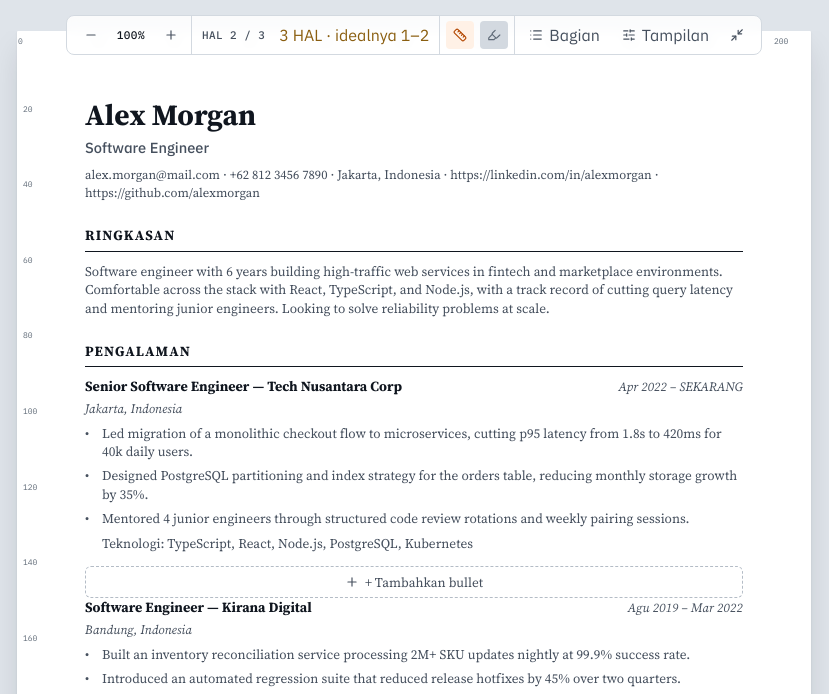
kepala entri editable di kertas (C4.1) › field wajib entri dikosongkan: nilai kosong ditulis, guide tampil lagi
The width and height of the screenshot is (829, 694).
Click the button "Senior Software Engineer". click: x=167, y=387
box: [85, 377, 249, 397]
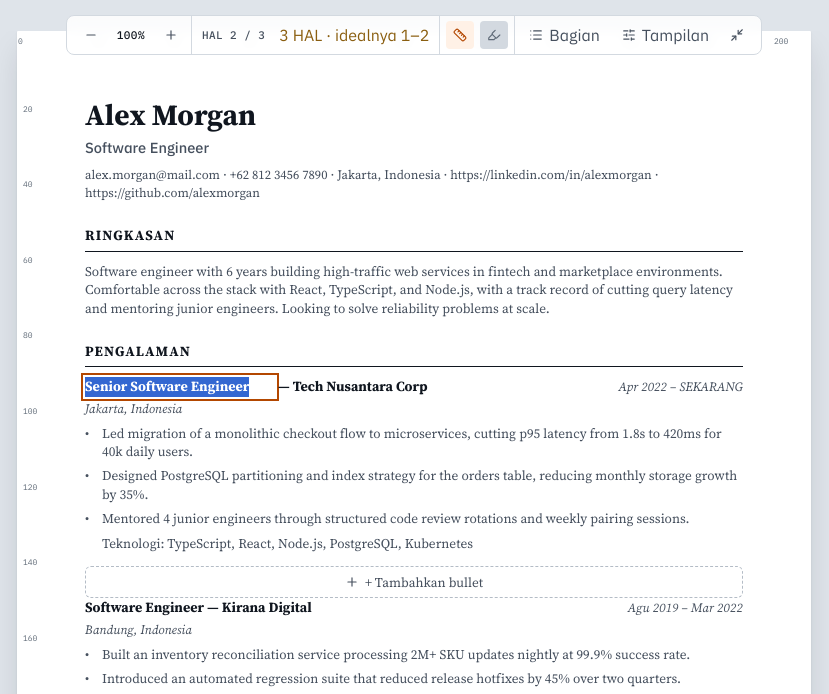
Clear the field with class "canvas-editor". click: x=180, y=387
box: [85, 377, 275, 397]
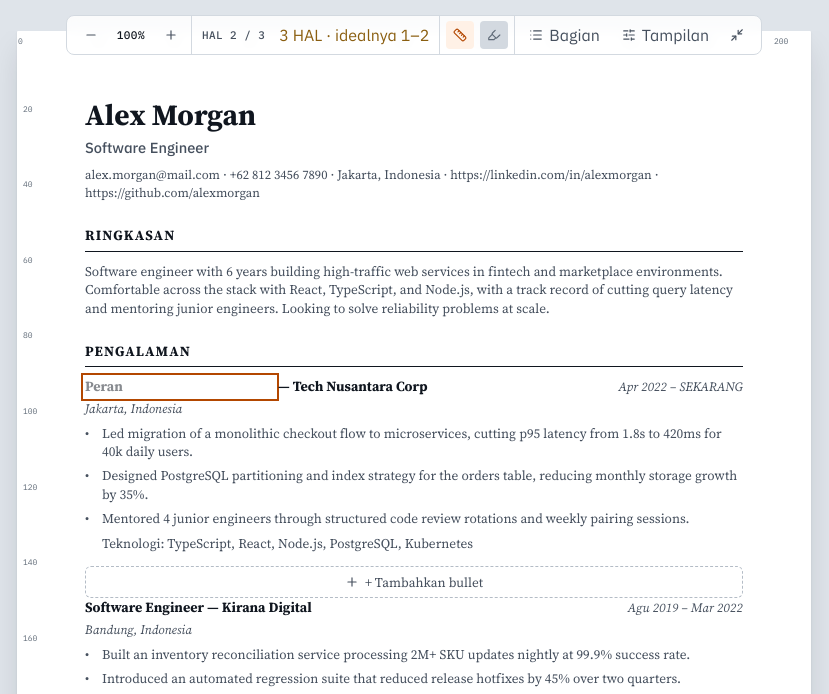
Press Enter
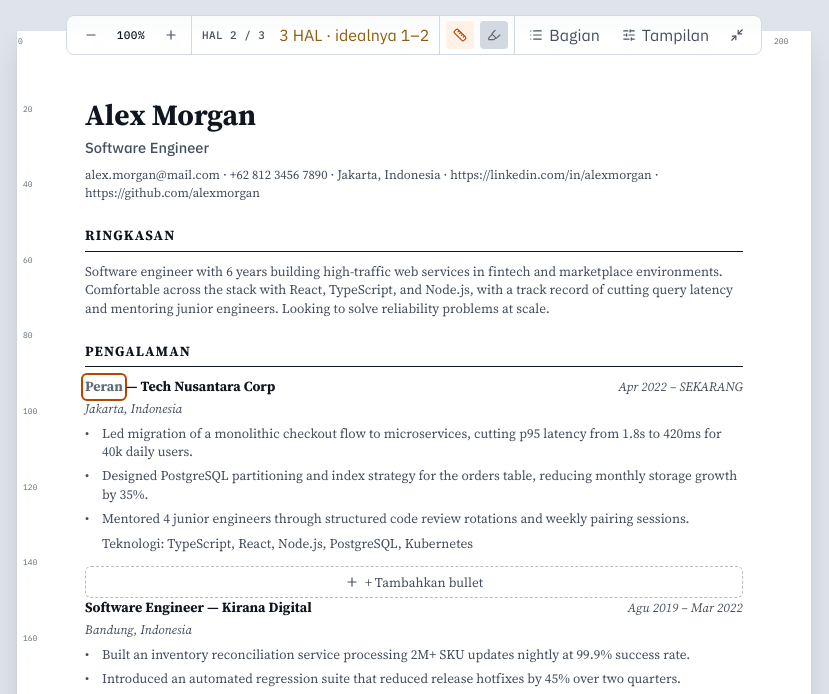
Now the button "Peran" is shown, box [85, 377, 123, 397]
